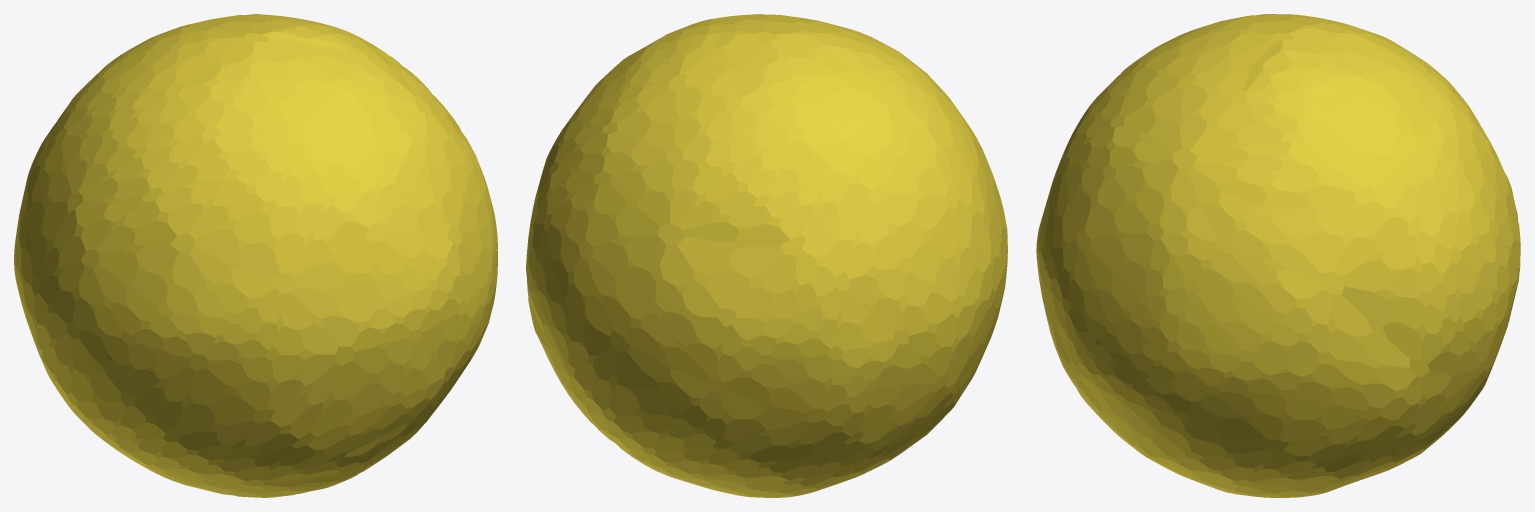
Rendered from Gunes.fbx.
The picture shows the model from 3 angles, left to right: view 1: azimuth 30°, elevation 25°; view 2: azimuth 150°, elevation 25°; view 3: azimuth 270°, elevation 25°; orthographic projection.
Visible parts, largest first — view 1: Gunes; view 2: Gunes; view 3: Gunes.
Boxes of the visible parts, x1,y1,x2,y2 form: Gunes: (14, 14, 497, 497); Gunes: (526, 14, 1007, 497); Gunes: (1036, 14, 1520, 497).
Bounding box in the file's own units: 14.03 × 14.09 × 14.
